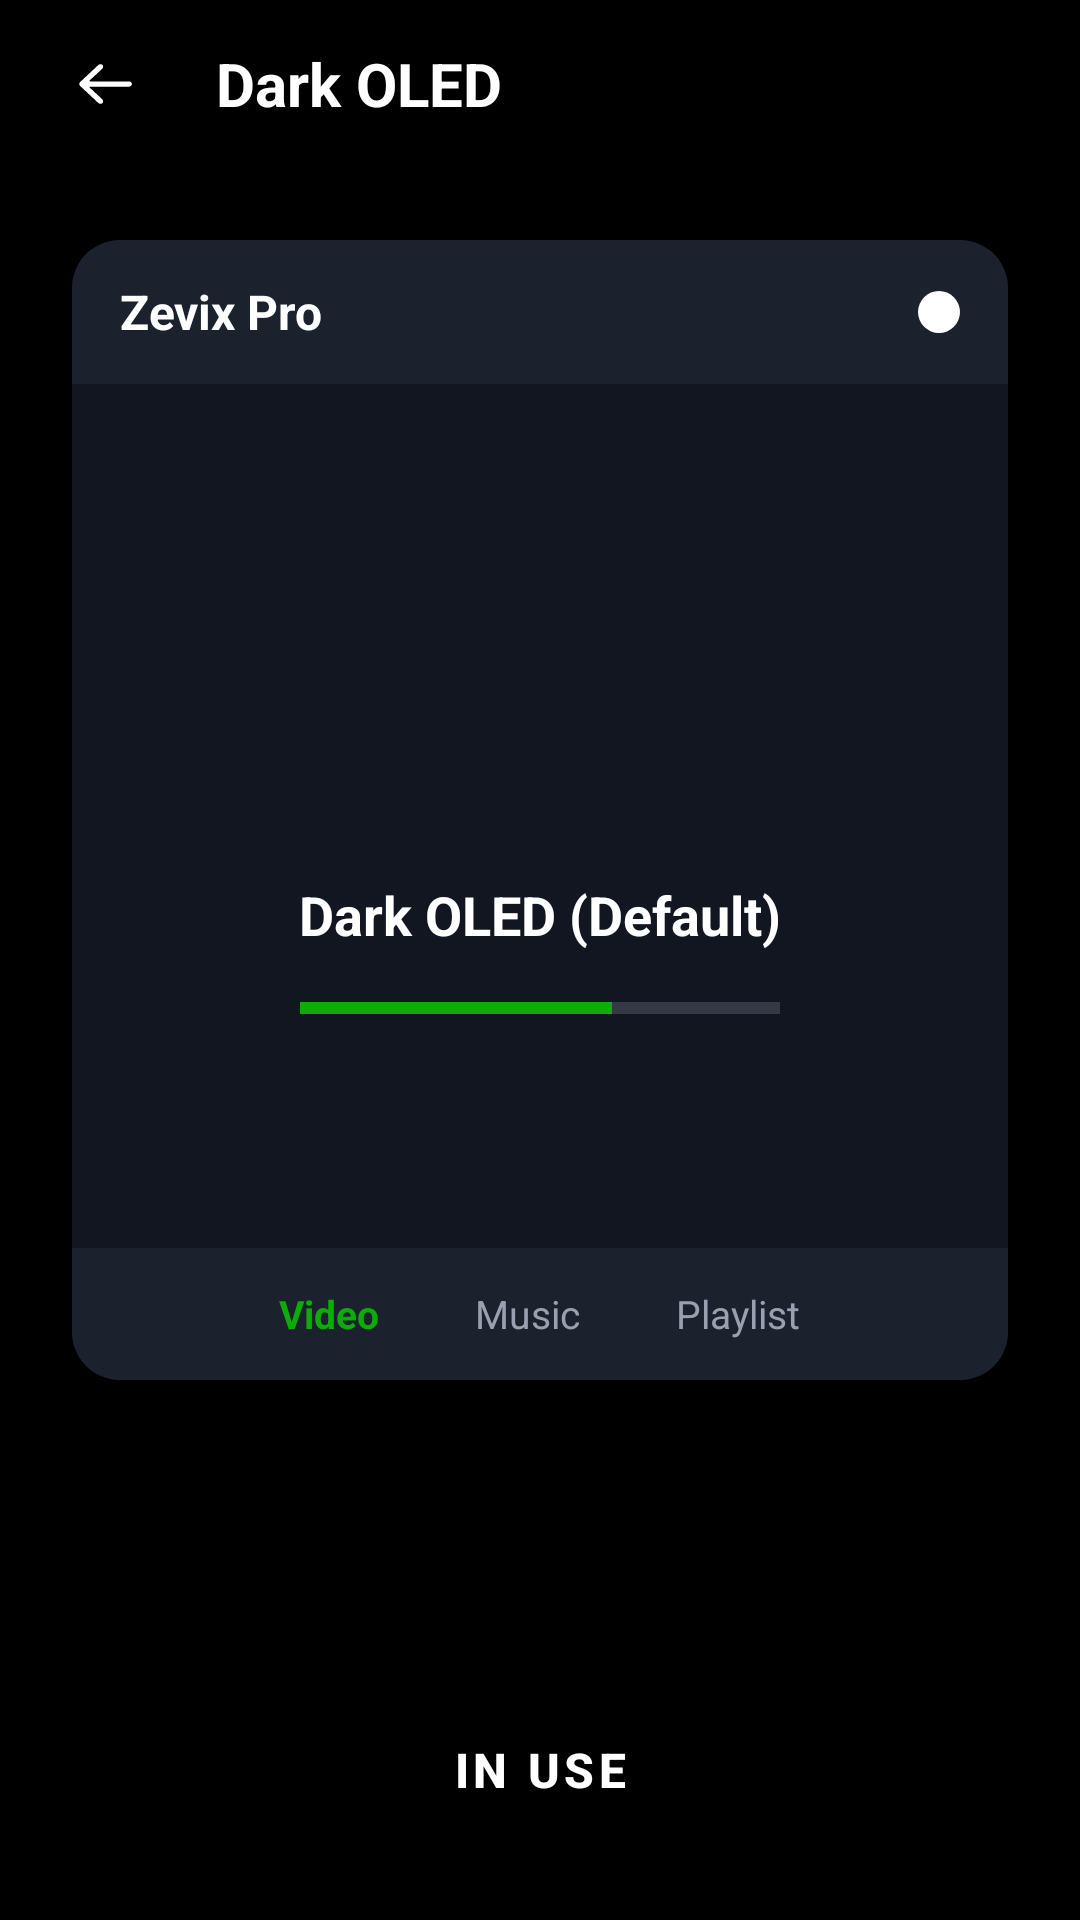

Named icons in this screenshot (1080px x 1920px) and their centers, [x,y]:
back: [105,84]
